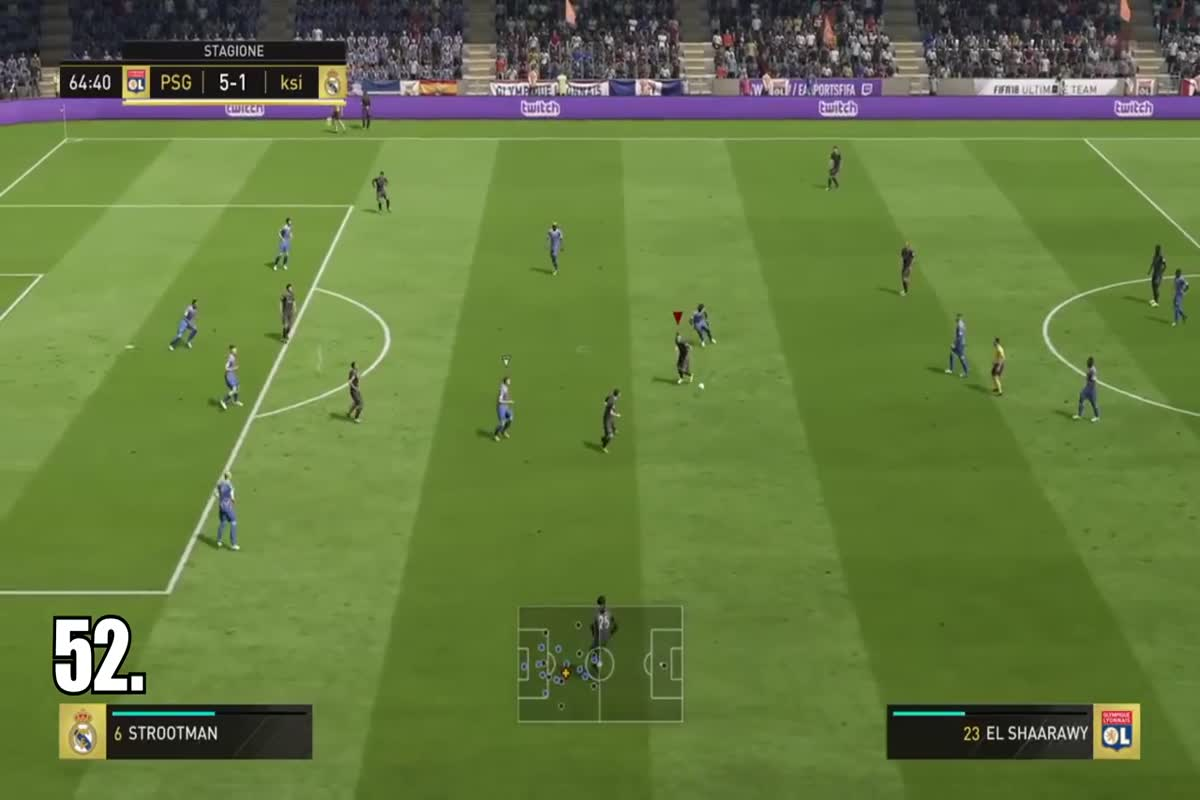ball: (695, 378, 712, 395)
